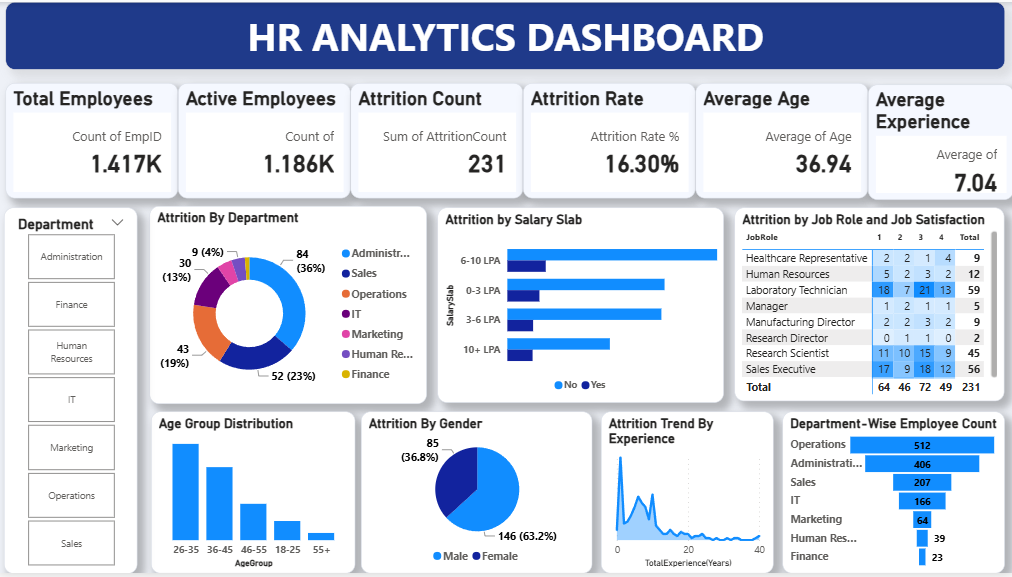

What the dashboard file says about the page in this screenshot:
{"tool":"powerbi","page":{"name":"Page 1","canvas":[1280,720],"ordinal":0},"visuals":[{"type":"textbox","box":[10,0,1259,85],"z":0},{"type":"cardVisual","title":"Total Employees","fields":{"Data":["CountNonNull(HR_Analytics-4.EmpID)"]},"box":[9.4,102,217.3,145.5],"z":1000},{"type":"cardVisual","title":"Active Employees","fields":{"Data":["CountNonNull(HR_Analytics-4.EmployeeCount)"]},"box":[226.8,102,217.3,145.5],"z":2000},{"type":"cardVisual","title":"Attrition Count","fields":{"Data":["Sum(HR_Analytics-4.AttritionCount)"]},"box":[444.1,102,217.3,145.5],"z":3000},{"type":"cardVisual","title":"Attrition Rate","fields":{"Data":["HR_Analytics-4.Attrition Rate %"]},"box":[661.4,102,217.3,145.5],"z":4000},{"type":"cardVisual","title":"Average Age","fields":{"Data":["Avg(HR_Analytics-4.Age)"]},"box":[878.7,102,217.3,145.5],"z":5000},{"type":"cardVisual","title":"Average Experience","fields":{"Data":["Avg(HR_Analytics-4.YearsatCompany)"]},"box":[1096.1,103.9,183.3,145.5],"z":6000},{"type":"donutChart","title":"Attrition By Department","fields":{"Category":["HR_Analytics-4.Department"],"Y":["Sum(HR_Analytics-4.AttritionCount)"]},"box":[190.9,257,349.6,249.5],"z":7000},{"type":"clusteredBarChart","title":"Attrition by Salary Slab","fields":{"Category":["HR_Analytics-4.SalarySlab"],"Y":["CountNonNull(HR_Analytics-4.EmpID)"],"Series":["HR_Analytics-4.Attrition"]},"box":[553.7,258.9,360.9,245.7],"z":8000},{"type":"pivotTable","title":"Attrition by Job Role and Job Satisfaction","fields":{"Rows":["HR_Analytics-4.JobRole"],"Values":["Sum(HR_Analytics-4.AttritionCount)"],"Columns":["HR_Analytics-4.JobSatisfaction"]},"box":[927.9,258.9,340.2,243.8],"z":9000},{"type":"columnChart","title":"Age Group Distribution","fields":{"Category":["HR_Analytics-4.AgeGroup"],"Y":["Sum(HR_Analytics-4.EmployeeCount)"]},"box":[192.8,515.9,257,204.1],"z":10000},{"type":"pieChart","title":"Attrition By Gender","fields":{"Category":["HR_Analytics-4.Gender"],"Series":["HR_Analytics-4.AttritionCount"],"Y":["Sum(HR_Analytics-4.AttritionCount)"]},"box":[457.3,515.9,291,204.1],"z":11000},{"type":"areaChart","title":"Attrition Trend By Experience","fields":{"Category":["HR_Analytics-4.TotalExperience(Years)"],"Y2":["Sum(HR_Analytics-4.AttritionCount)"]},"box":[759.7,515.9,217.3,204.1],"z":12000},{"type":"funnel","title":"Department-Wise Employee Count","fields":{"Category":["HR_Analytics-4.Department"],"Y":["CountNonNull(HR_Analytics-4.EmpID)"]},"box":[988.4,515.9,279.7,204.1],"z":13000},{"type":"slicer","fields":{"Values":["HR_Analytics-4.Department"]},"box":[7.6,258.9,168.2,461.1],"z":14000}]}

Visuals, with their boxes in screenshot pixels (x1, y1, x2, y2), scaled from the page's 1280x720 canvas onto the 1012x577 screenshot:
textbox: select_region(8, 0, 1003, 68)
"Total Employees" cardVisual: select_region(7, 82, 179, 198)
"Active Employees" cardVisual: select_region(179, 82, 351, 198)
"Attrition Count" cardVisual: select_region(351, 82, 523, 198)
"Attrition Rate" cardVisual: select_region(523, 82, 695, 198)
"Average Age" cardVisual: select_region(695, 82, 867, 198)
"Average Experience" cardVisual: select_region(867, 83, 1011, 200)
"Attrition By Department" donutChart: select_region(151, 206, 427, 406)
"Attrition by Salary Slab" clusteredBarChart: select_region(438, 207, 723, 404)
"Attrition by Job Role and Job Satisfaction" pivotTable: select_region(734, 207, 1003, 403)
"Age Group Distribution" columnChart: select_region(152, 413, 356, 576)
"Attrition By Gender" pieChart: select_region(362, 413, 592, 576)
"Attrition Trend By Experience" areaChart: select_region(601, 413, 772, 576)
"Department-Wise Employee Count" funnel: select_region(781, 413, 1003, 576)
slicer - HR_Analytics-4.Department: select_region(6, 207, 139, 576)
